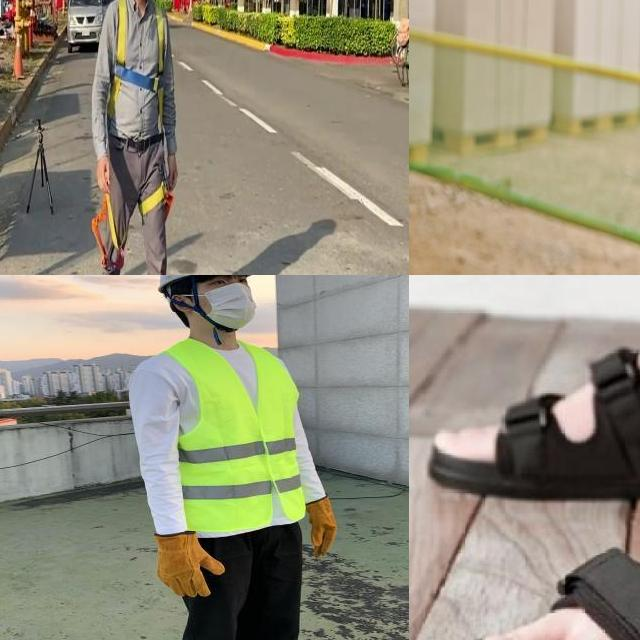Harness: (108, 0, 166, 128), (92, 194, 125, 272)
Sandals: (450, 439, 640, 640)
head_helmet: (159, 275, 260, 294)
person: (99, 275, 354, 640)
vest: (159, 339, 305, 532)
